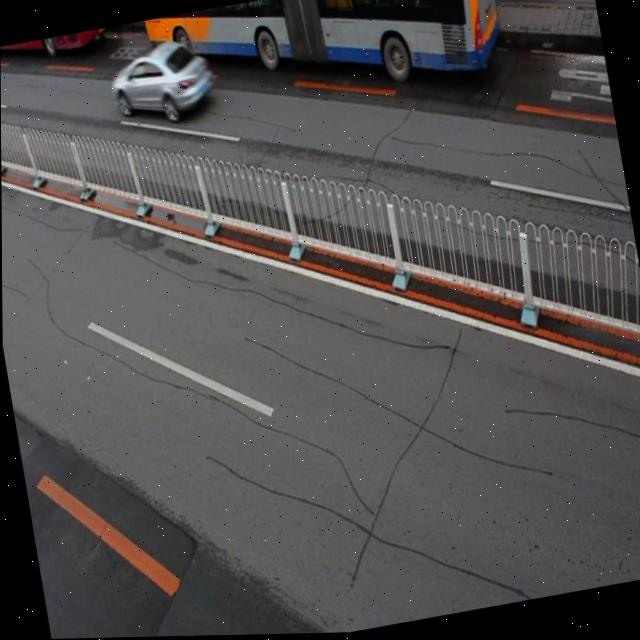car: (108, 35, 218, 133)
van: (145, 0, 510, 129), (0, 26, 120, 67)
